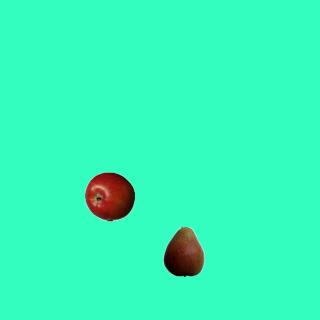Apple Braeburn: (84, 171, 134, 221)
Pear Forelle: (158, 226, 208, 276)
